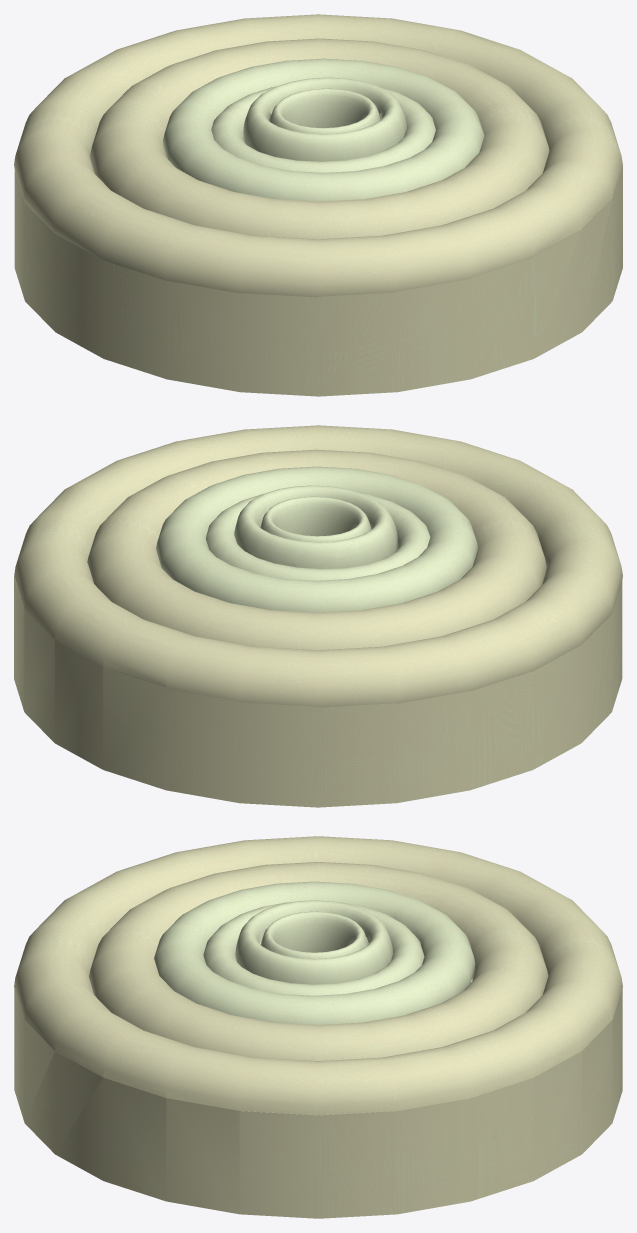
Rendered from WhiteChecker.dae.
3 renders of one model, top to bottom at view 1: azimuth 30°, elevation 25°; view 2: azimuth 150°, elevation 25°; view 3: azimuth 270°, elevation 25°, orthographic.
Visible parts, largest first — view 1: ID3, ID25, ID43; view 2: ID3, ID25, ID43; view 3: ID3, ID25, ID43.
Boxes of the visible parts, box(x1,y1,x2,y2) form: ID3: box(14, 14, 622, 396); ID25: box(163, 58, 484, 201); ID43: box(243, 77, 406, 161); ID3: box(14, 425, 622, 807); ID25: box(156, 466, 477, 612); ID43: box(234, 485, 397, 568); ID3: box(14, 836, 622, 1218); ID25: box(154, 881, 475, 1024); ID43: box(235, 900, 393, 984).
Size of the model in its own units: 3.15 by 0.9257 by 3.15.
